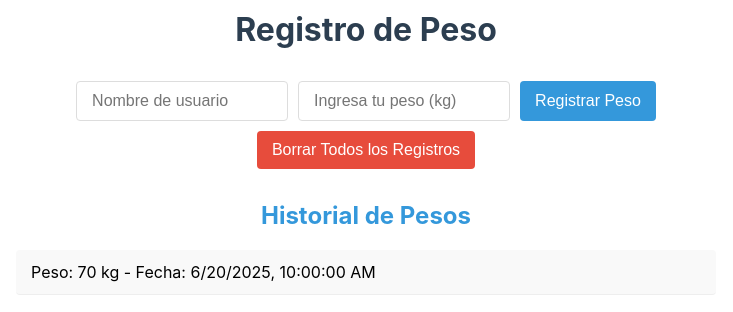
Scenario: Componente App › Borrado de registros
This screenshot has width=733, height=312.
Expected: the list item "Peso: 70 kg - Fecha: 6/20/2025, 10:00:00 AM" is shown, left=16, top=250, right=716, bottom=295
Click the button "Borrar Todos los Registros": (366, 150) left=257, top=131, right=475, bottom=169
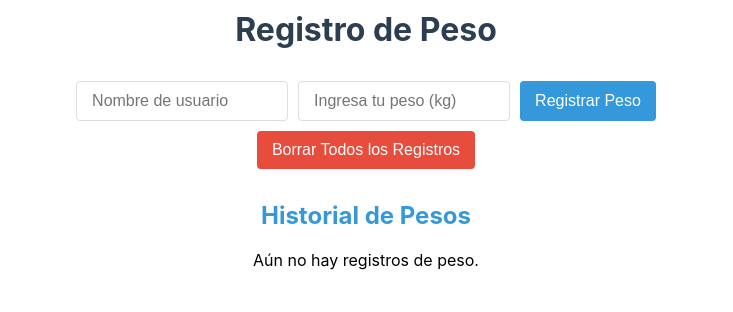
Expected: the text "Aún no hay registros de peso." is shown, left=253, top=250, right=479, bottom=270
